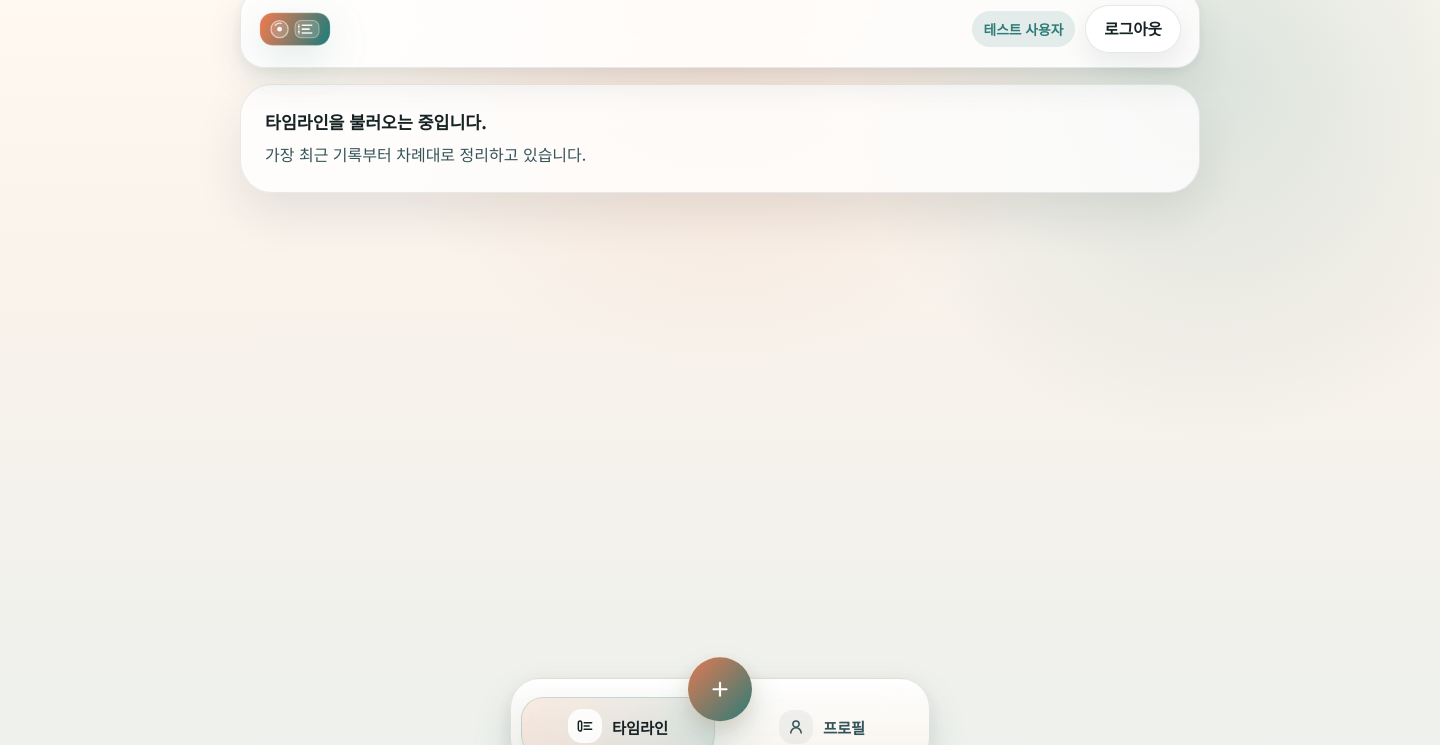
web app › creates a journal entry from the floating action button
Click the button named "저널 작성" at [720, 689], box [688,657,752,721]
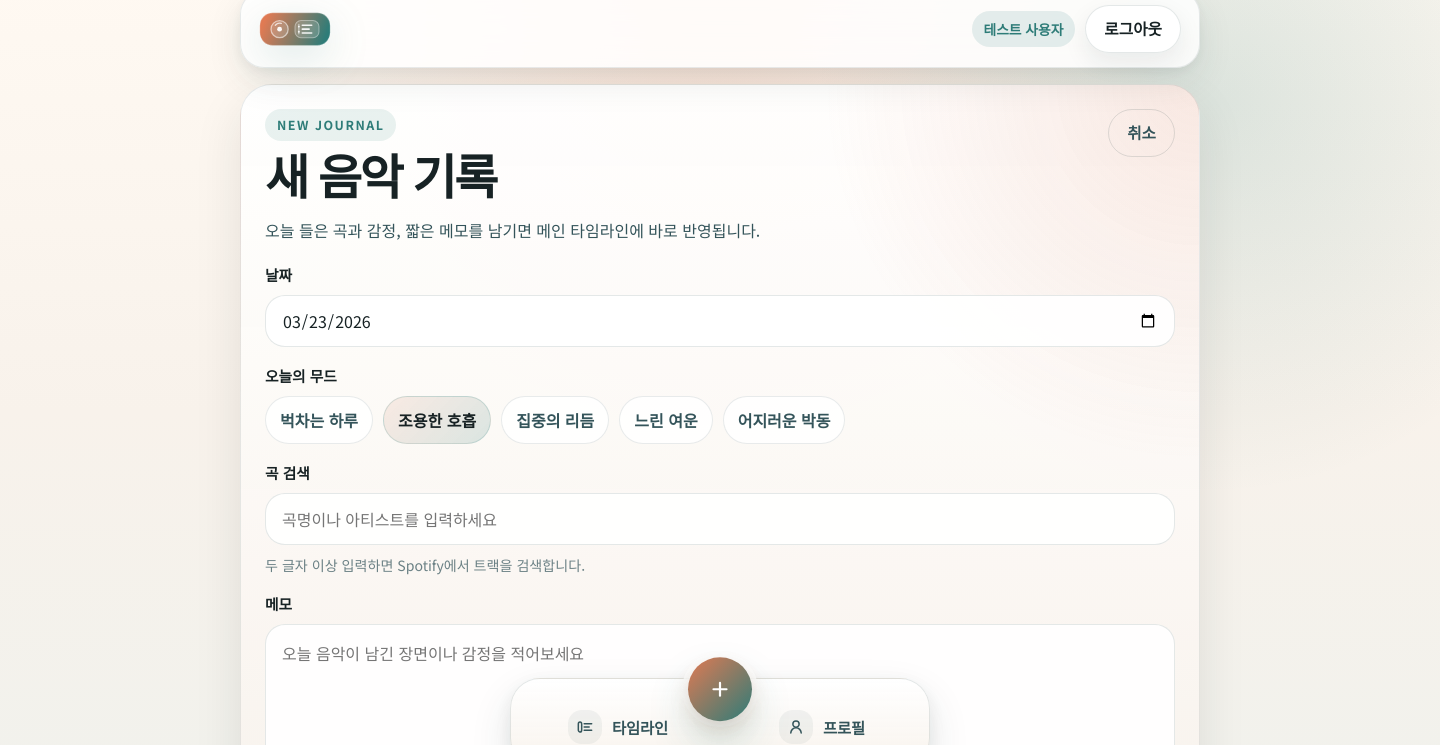
Check: the heading "새 음악 기록" is shown, box [265,151,496,197]
Type "River" into the search field labelled "곡 검색" at [720, 519], box [265,493,1175,545]
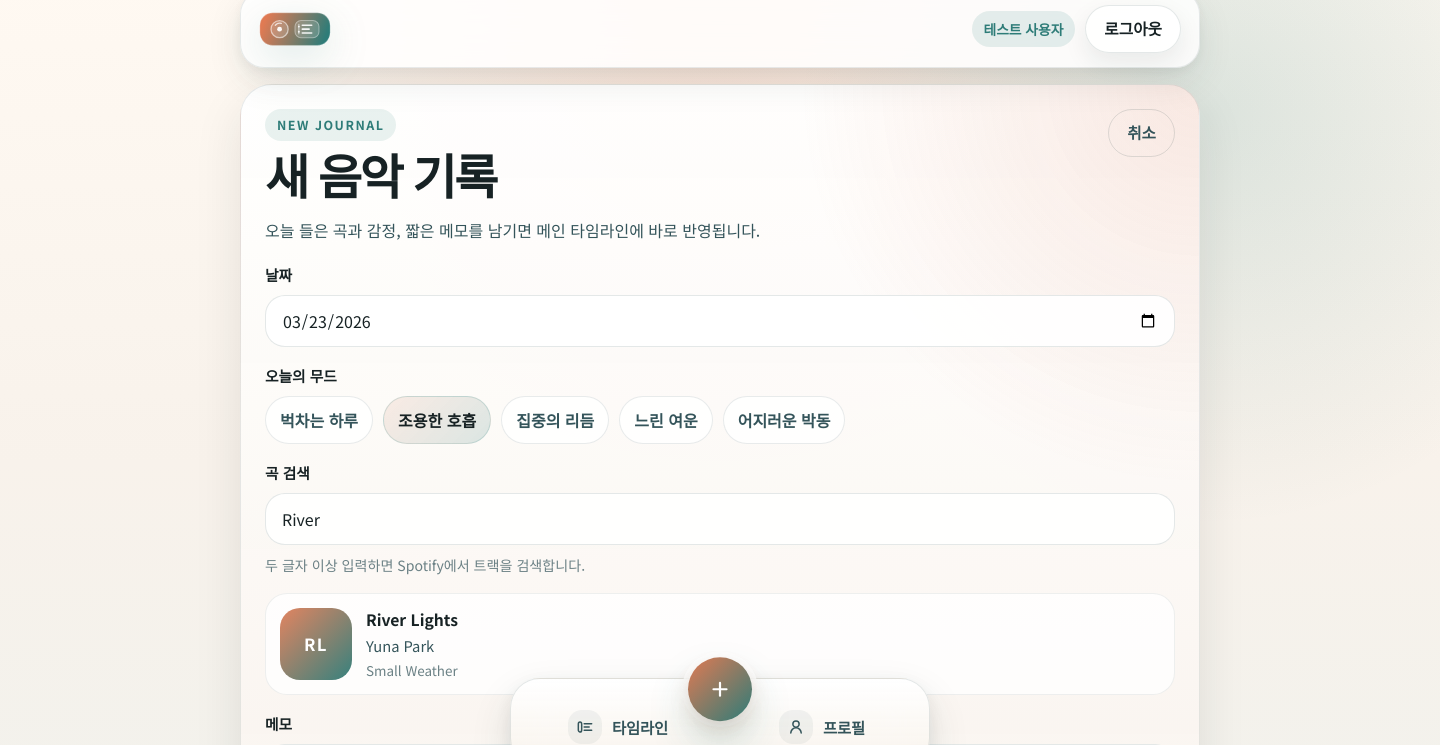
Click the button "RL River Lights Yuna Park Small Weather" at [316, 644], box [265,593,1175,695]
(page scrolled)
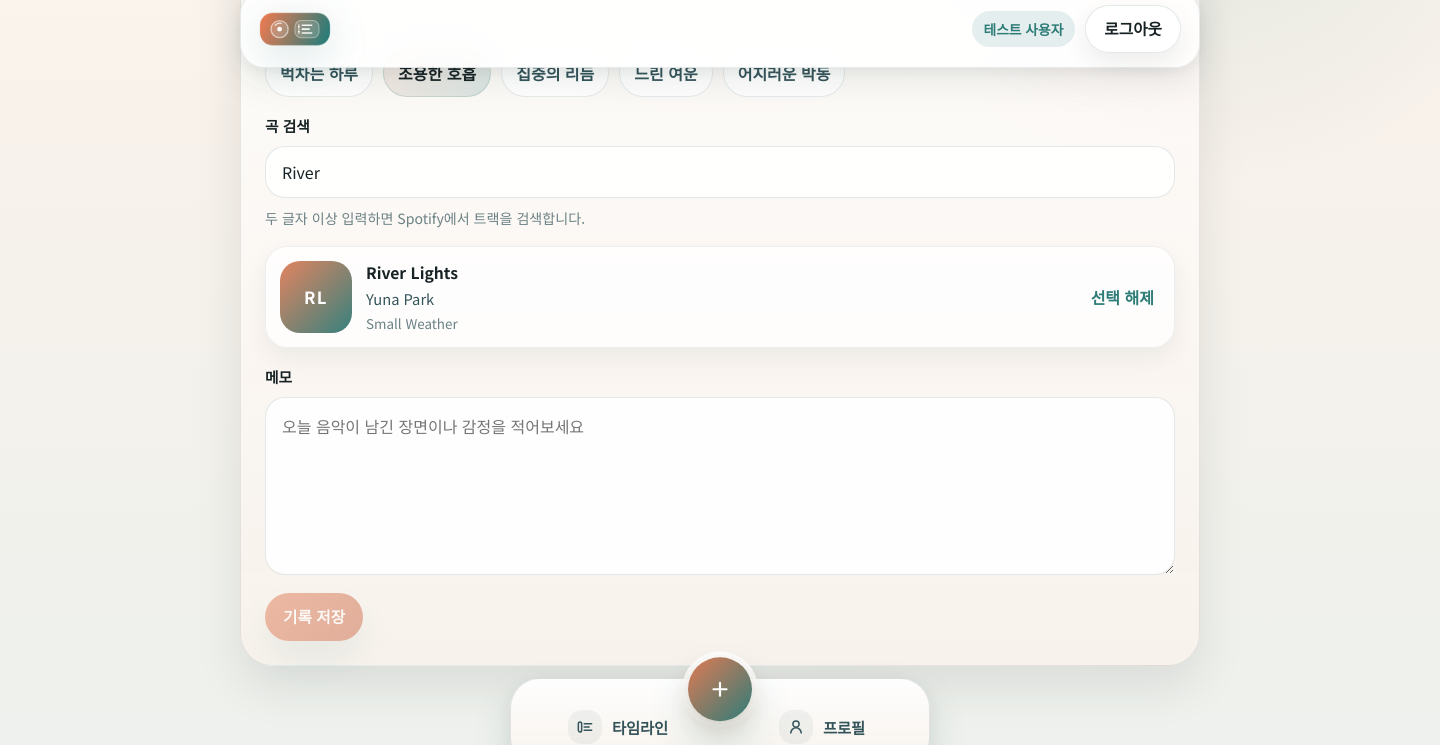
Type "오늘의 리듬을 남긴다" into the text box labelled "메모" at [720, 486], box [265,397,1175,575]
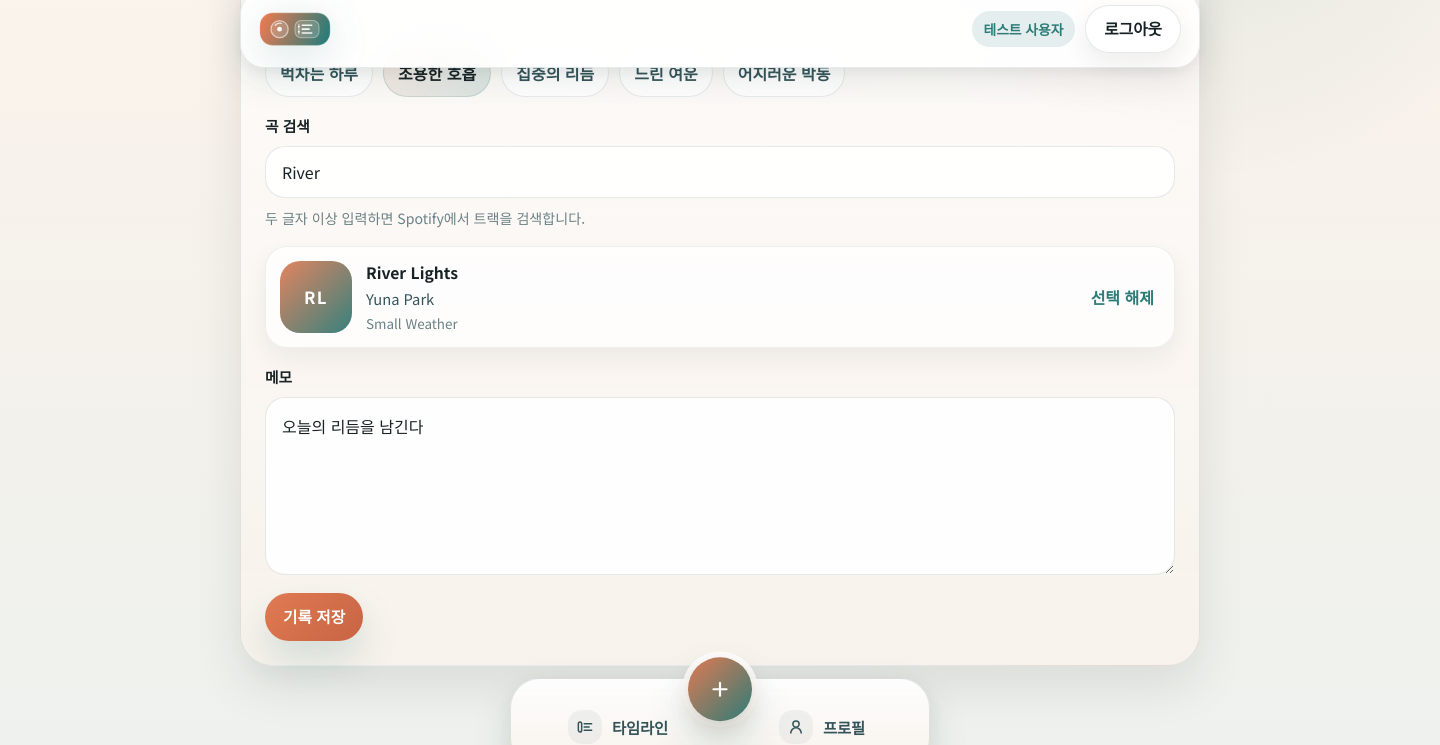
Click the button "기록 저장" at [314, 617], box [265,593,363,641]
(page scrolled)
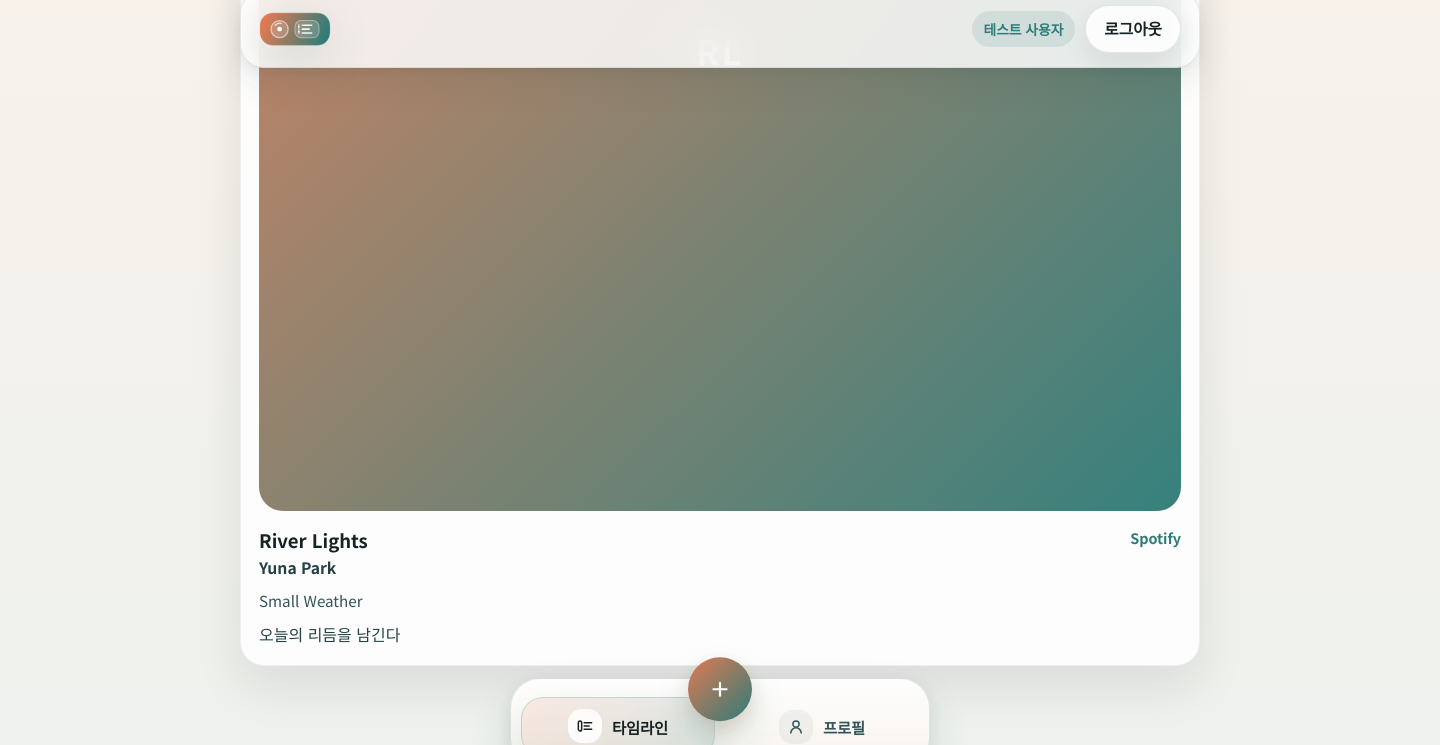
Check: the text "오늘의 리듬을 남긴다" is shown, box [259,622,400,646]
